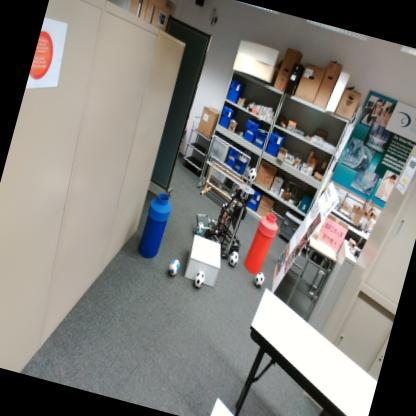ball: (166, 257, 180, 278), (193, 270, 206, 288), (246, 166, 258, 184), (227, 250, 239, 268), (254, 270, 265, 288), (195, 221, 204, 234)
